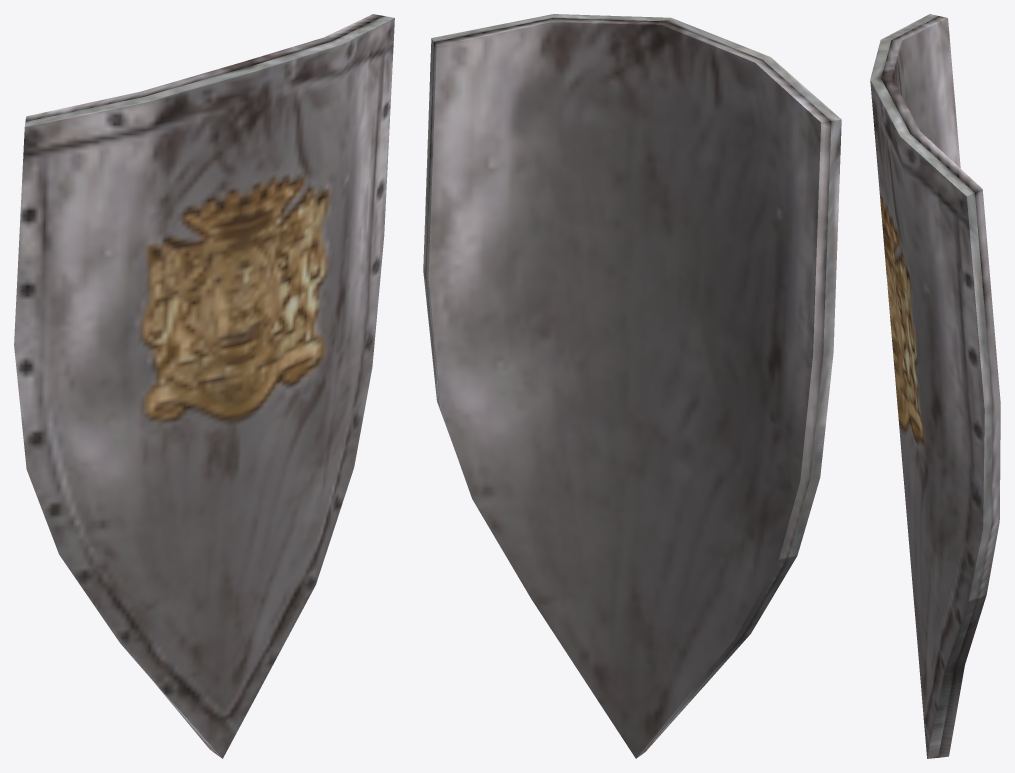
Rendered from Shield04.FBX.
3 renders of one model, left to right at view 1: azimuth 30°, elevation 25°; view 2: azimuth 150°, elevation 25°; view 3: azimuth 270°, elevation 25°, orthographic. The views are drawn at different scales.
Visible parts, largest first — view 1: Shield04; view 2: Shield04; view 3: Shield04.
Part boxes in pixels (x1=…): Shield04: x1=14, y1=14, x2=394, y2=758; Shield04: x1=423, y1=14, x2=841, y2=758; Shield04: x1=870, y1=14, x2=1000, y2=758.
Size of the model in its own units: 51.18 by 15.4 by 88.85.
